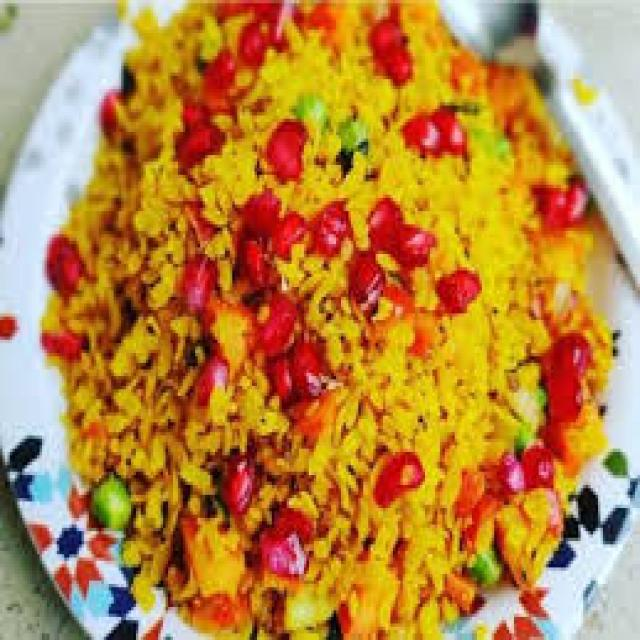POHA: (65, 3, 591, 637)
